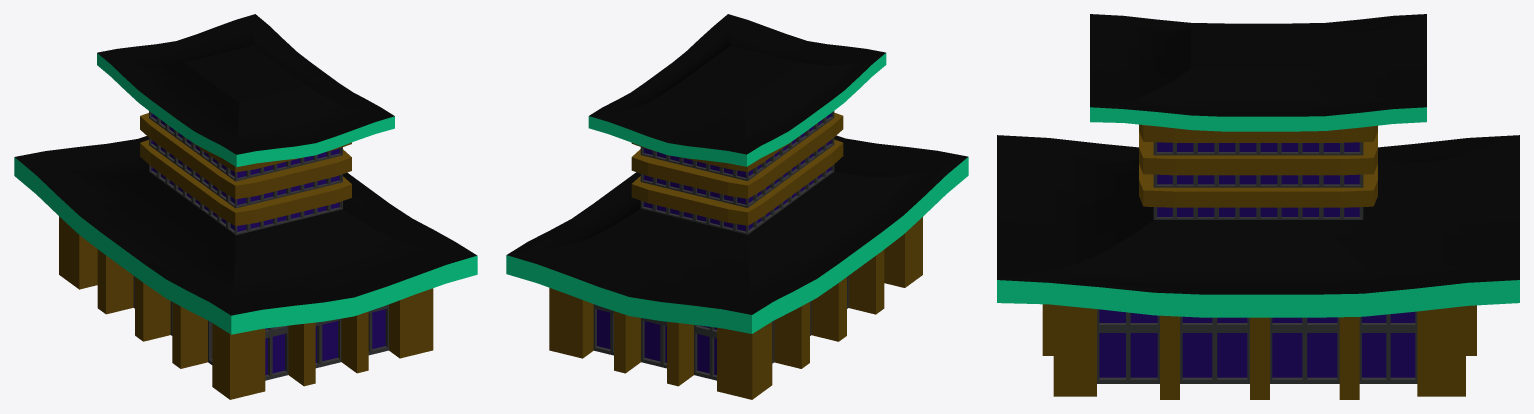
File: shrine.fbx
3 views of the same model, side by side, from view 1: azimuth 30°, elevation 25°; view 2: azimuth 150°, elevation 25°; view 3: azimuth 270°, elevation 25° (orthographic). The views are drawn at different scales.
Visible parts, largest first — view 1: Cube.016; view 2: Cube.016; view 3: Cube.016.
Boxes of the visible parts, <box> form: Cube.016: <box>14,14,477,399</box>; Cube.016: <box>506,14,968,399</box>; Cube.016: <box>997,14,1519,399</box>.
Size of the model in its own units: 2663 by 2470 by 4062.
